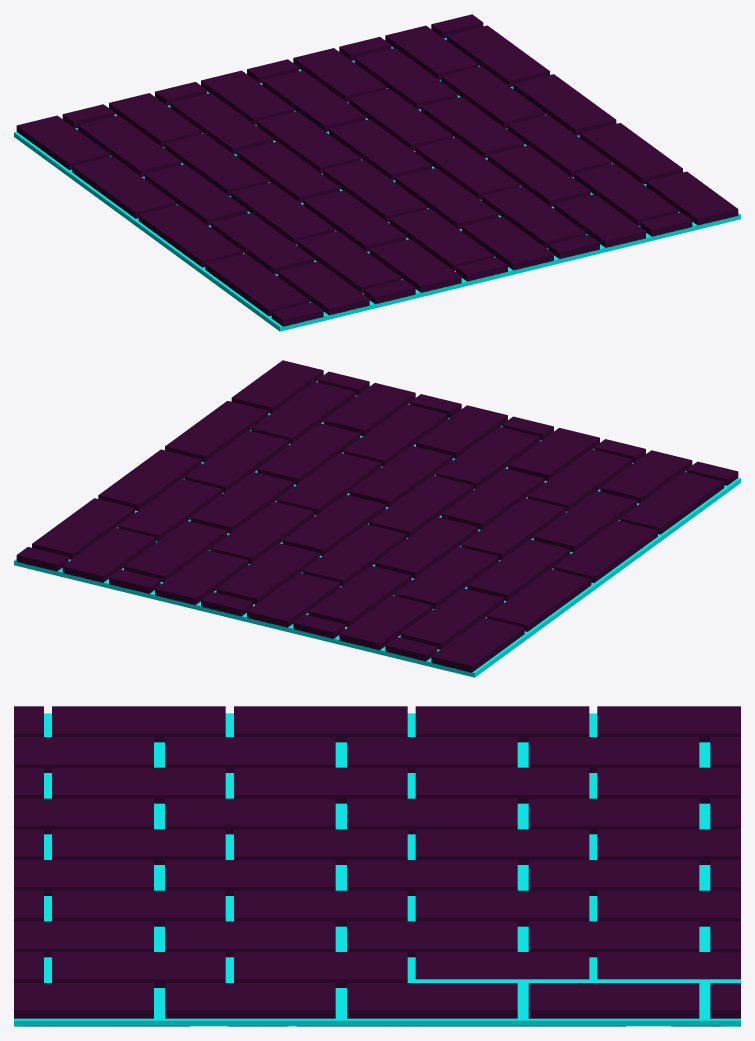
The model's file is roadnew.obj.
The picture shows the model from 3 angles, top to bottom: view 1: azimuth 30°, elevation 25°; view 2: azimuth 150°, elevation 25°; view 3: azimuth 270°, elevation 25°; orthographic projection. The views are drawn at different scales.
Visible parts, largest first — view 1: Cube.018_Cube.037; view 2: Cube.018_Cube.037; view 3: Cube.018_Cube.037.
Part boxes in pixels (box(x1,y1,x2,y2)): Cube.018_Cube.037: box(14, 14, 740, 331); Cube.018_Cube.037: box(14, 360, 740, 677); Cube.018_Cube.037: box(14, 706, 740, 1026).
Size of the model in its own units: 8 by 0.1805 by 8.
